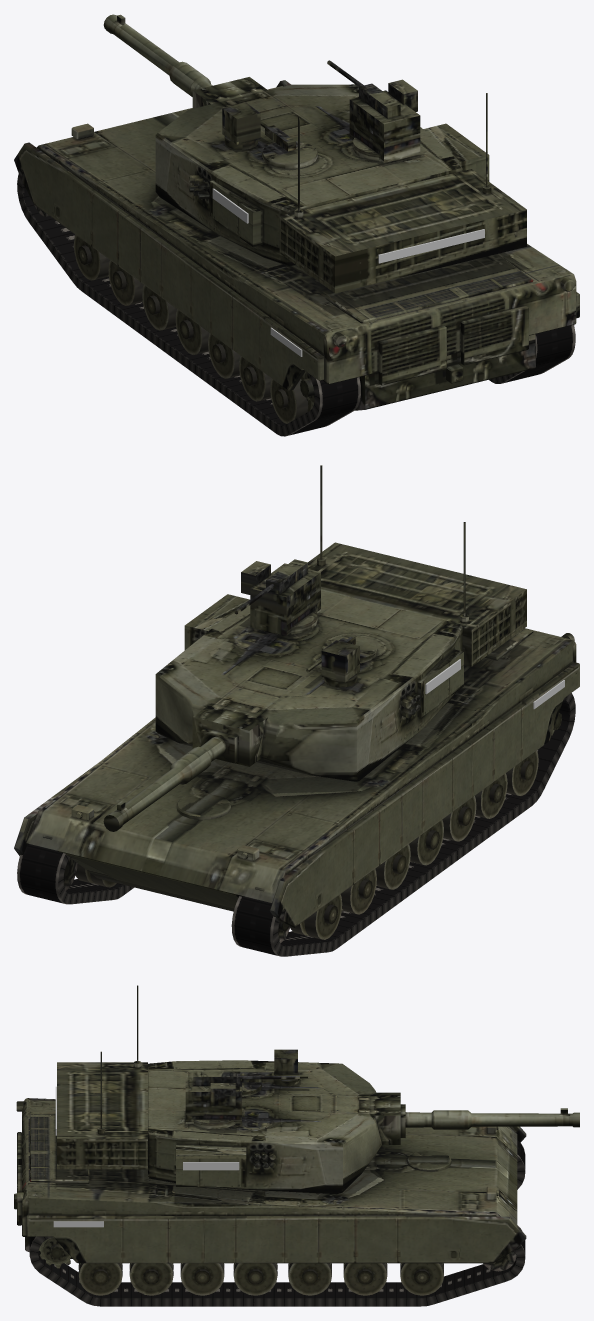
The model's file is abrams.glb.
The picture shows the model from 3 angles, top to bottom: view 1: azimuth 30°, elevation 25°; view 2: azimuth 150°, elevation 25°; view 3: azimuth 270°, elevation 25°; orthographic projection. The views are drawn at different scales.
Visible parts, largest first — view 1: Hull, Turret, TrackL, Gun, TrackR, WheelL6, WheelL0, WheelL1, WheelL2, WheelL3, WheelL5, WheelL4; view 2: Hull, Turret, TrackL, Gun, TrackR, WheelL0, WheelL1, WheelL2, WheelL3, WheelL4, WheelL6, WheelL5; view 3: Hull, Turret, TrackR, Gun, WheelR1, WheelR3, WheelR5, WheelR4, WheelR6, WheelR0, WheelR2, SprocketR.
Boxes of the visible parts, box(x1,y1,x2,y2) form: Hull: box(14, 80, 579, 410); Turret: box(155, 60, 526, 293); TrackL: box(17, 174, 360, 436); Gun: box(103, 14, 267, 108); TrackR: box(489, 325, 575, 383); WheelL6: box(270, 376, 312, 423); WheelL0: box(73, 235, 109, 280); WheelL1: box(108, 260, 143, 305); WheelL2: box(142, 285, 176, 330); WheelL3: box(175, 309, 209, 354); WheelL5: box(239, 356, 271, 401); WheelL4: box(208, 333, 240, 378); Hull: box(14, 628, 579, 927); Turret: box(155, 465, 526, 781); TrackL: box(231, 693, 575, 956); Gun: box(103, 703, 267, 831); TrackR: box(17, 844, 134, 904); WheelL0: box(290, 894, 342, 939); WheelL1: box(340, 869, 376, 914); WheelL2: box(375, 844, 410, 889); WheelL3: box(409, 820, 443, 865); WheelL4: box(442, 796, 476, 841); WheelL6: box(506, 750, 538, 795); WheelL5: box(475, 773, 507, 818); Hull: box(14, 1098, 526, 1263); Turret: box(55, 985, 381, 1194); TrackR: box(29, 1225, 525, 1306); Gun: box(370, 1092, 579, 1144); WheelR1: box(343, 1263, 387, 1295); WheelR3: box(233, 1263, 277, 1295); WheelR5: box(129, 1263, 173, 1295); WheelR4: box(180, 1263, 224, 1295); WheelR6: box(78, 1263, 122, 1295); WheelR0: box(400, 1263, 443, 1295); WheelR2: box(288, 1263, 331, 1295); SprocketR: box(38, 1237, 70, 1268).
Bounding box in the file's own units: 3.99 × 4.17 × 9.04.
Materials: 3 (2 with a texture image).
